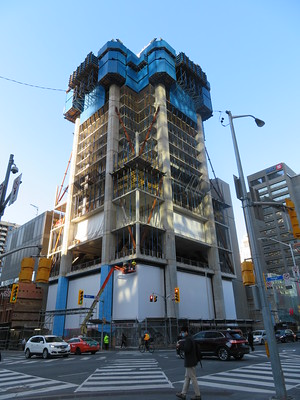medium: (56, 34, 236, 360)
